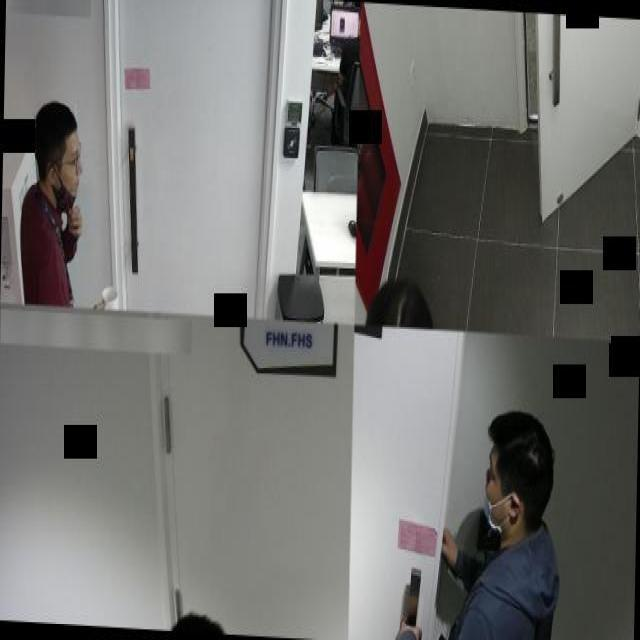hairnet: (54, 133, 84, 215), (482, 454, 511, 534)
